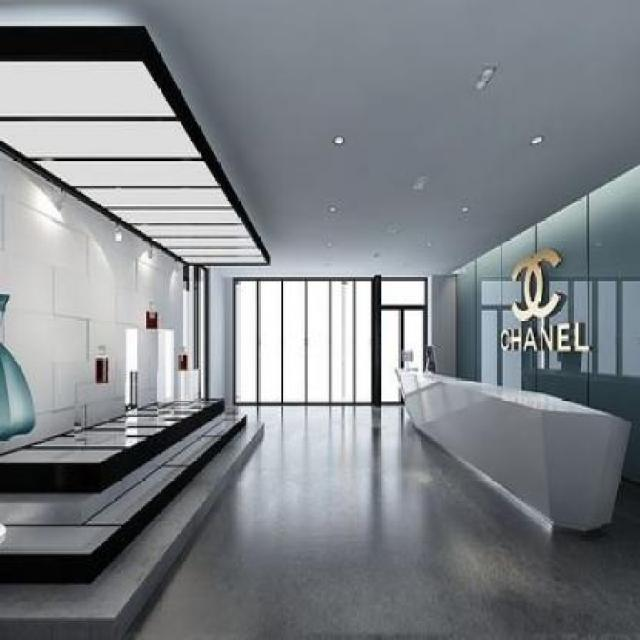frontdesk: (380, 354, 640, 548)
